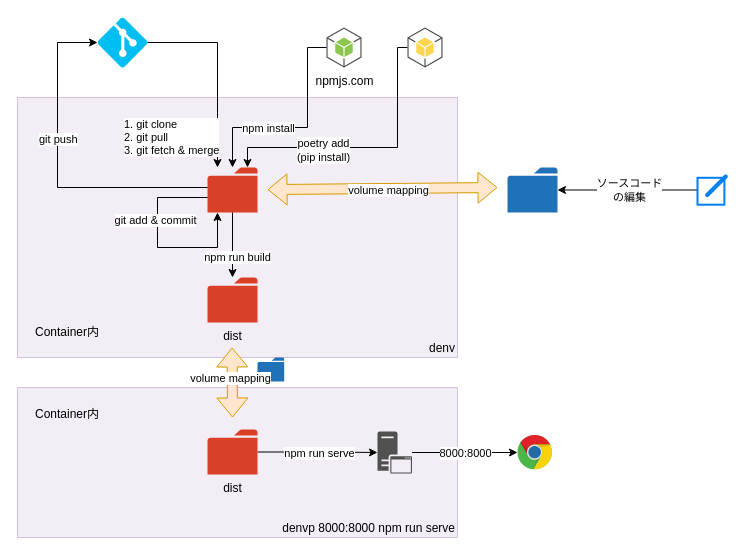
This 752x555 diagram has some shape labels left out. Here are the shapes that lost their labels. From the top down, the box of each, then its label:
(97, 17, 147, 67): gitlab / github
(406, 26, 442, 68): pypi.org
(696, 174, 727, 205): VSCode
